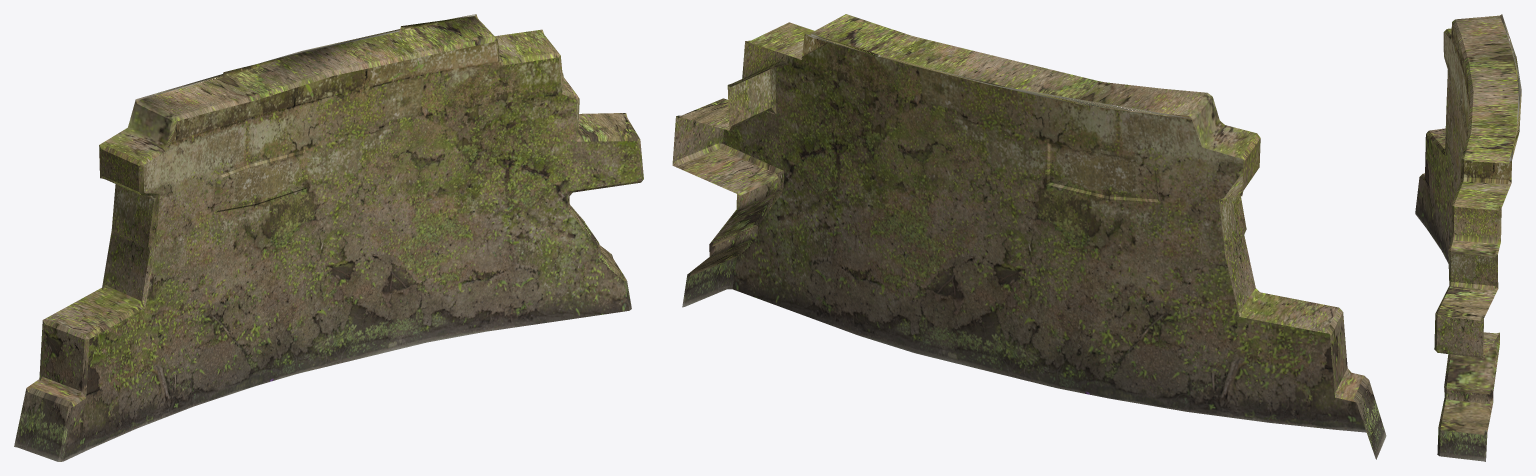
Rendered from wall.FBX.
3 views of the same model, side by side, from view 1: azimuth 30°, elevation 25°; view 2: azimuth 150°, elevation 25°; view 3: azimuth 270°, elevation 25° (orthographic). The views are drawn at different scales.
Visible parts, largest first — view 1: wall; view 2: wall; view 3: wall.
Part boxes in pixels (bbox=[...]): wall: bbox=[14, 14, 643, 461]; wall: bbox=[672, 14, 1386, 459]; wall: bbox=[1415, 14, 1521, 461].
Bounding box in the file's own units: 197 × 88.2 × 33.93.
Materials: 1 (1 with a texture image).
